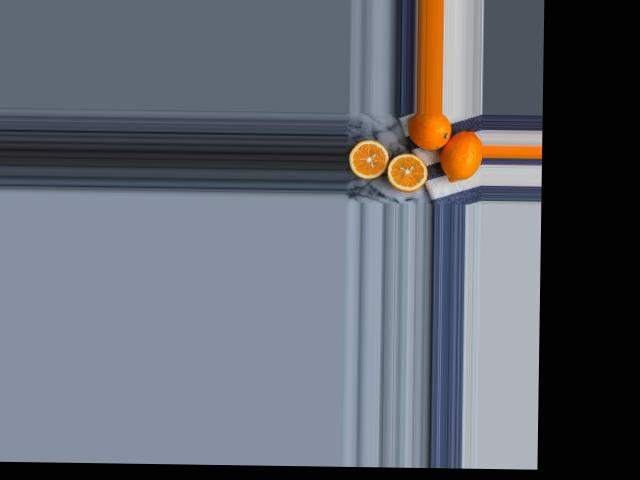lemon: (412, 112, 451, 149)
